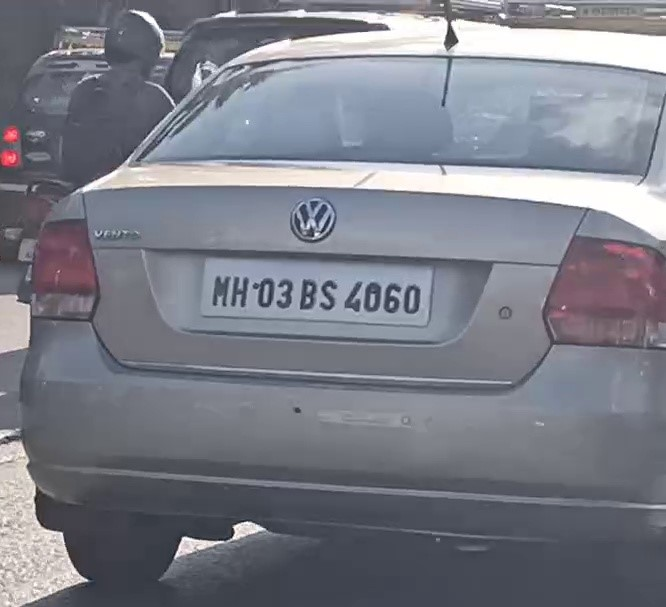MH03BS4060: (202, 259, 435, 327)
